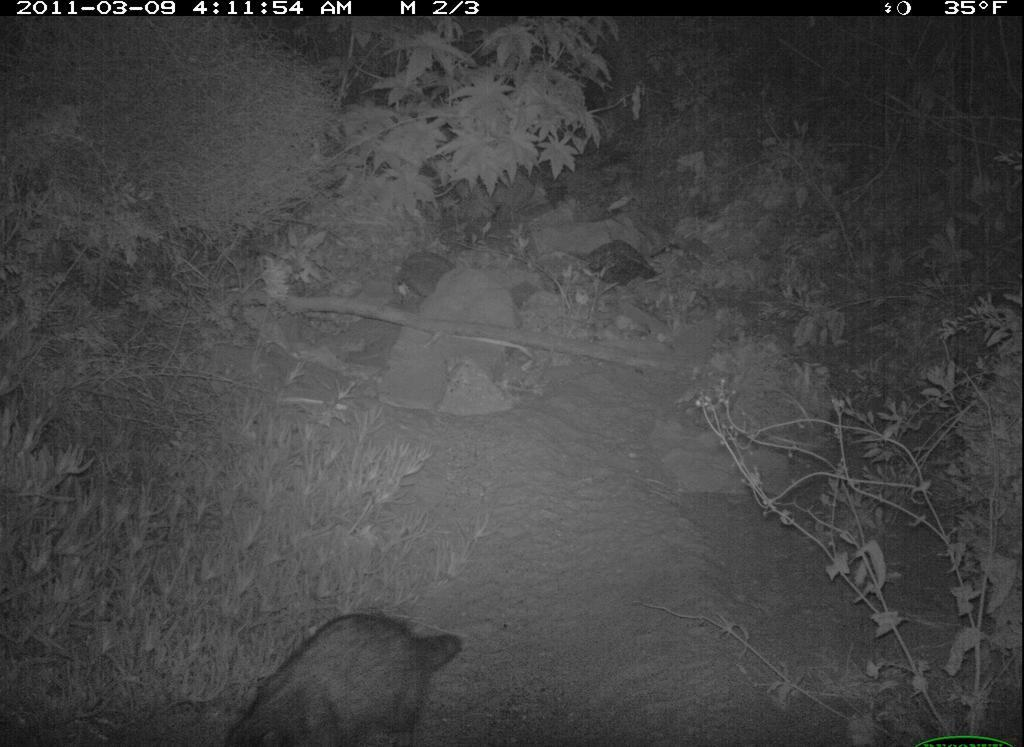raccoon: (217, 605, 473, 747)
